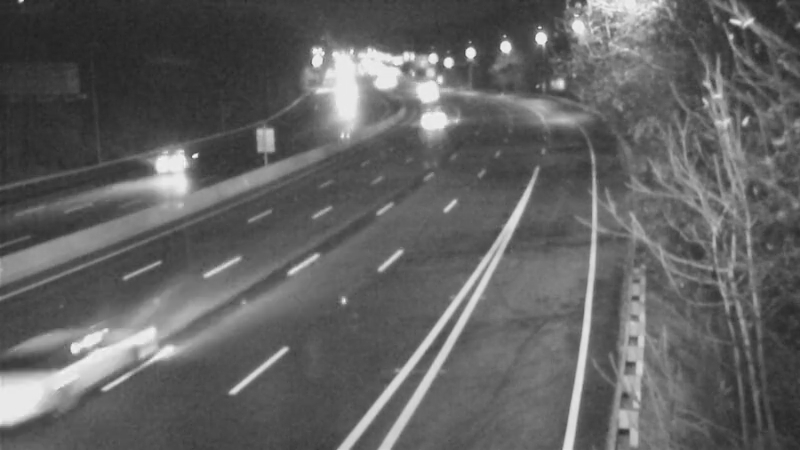vehicle: (1, 338, 94, 448), (136, 126, 216, 206), (403, 73, 453, 123), (404, 98, 454, 148)
